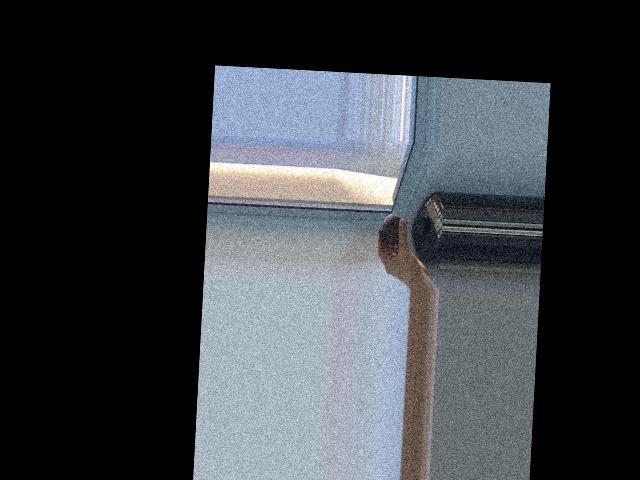beet: (378, 213, 410, 248)
